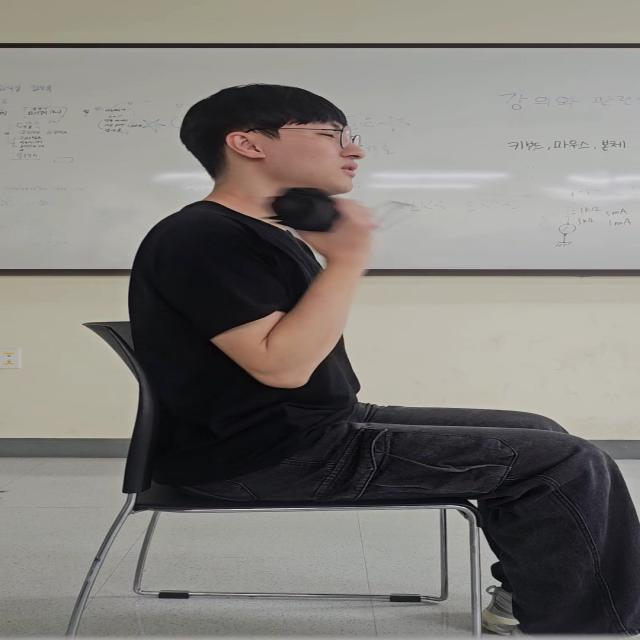curl: (160, 169, 400, 391)
